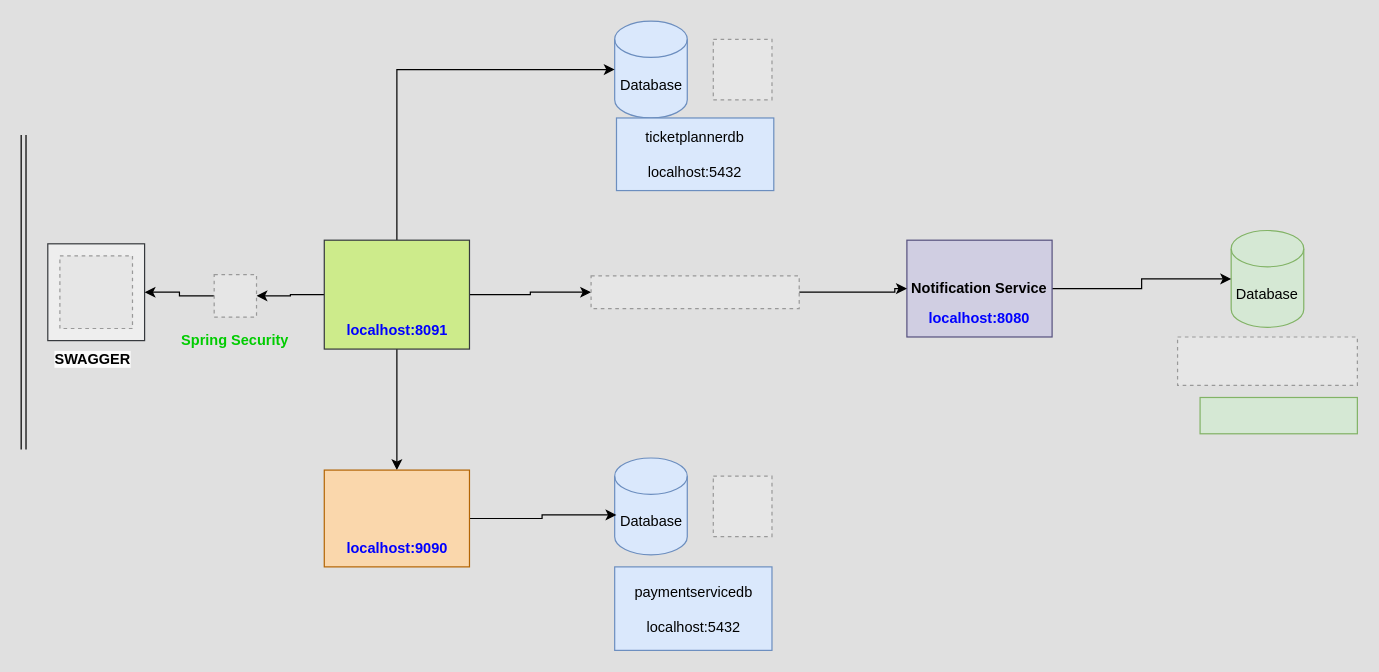
Image size: 1379x672. Some labels were removed from this diagram. Grey dashed boxes stand in for pictures. Each missing label, with the box of its shape:
notificationdb: (1199, 396, 1357, 434)
Payment Service: (323, 469, 469, 567)
TicketPlanner App: (323, 239, 469, 349)
